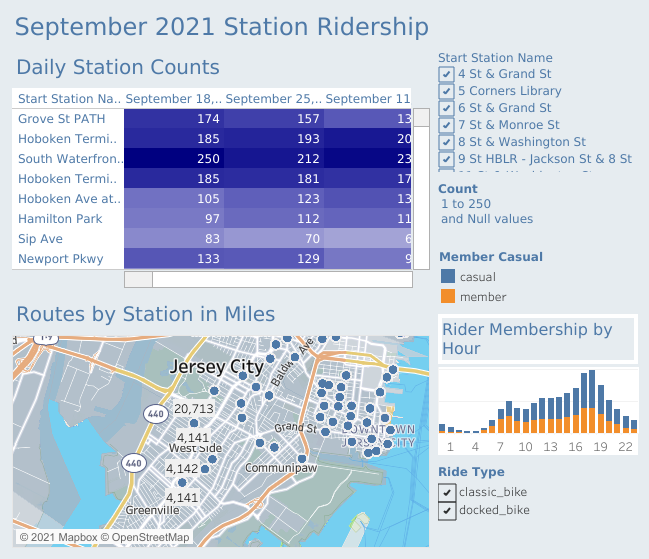

Layout of this report page (visuals, bound fields, positions):
{"tool":"tableau","page":{"name":"Ridership by Station","canvas":[1000,1000],"units":"permille","ordinal":1},"visuals":[{"type":"title","box":[12.3,12.4,975.4,57.5]},{"type":"worksheet","title":"Daily Station Data","mark":"Square","rows":["start_station_name"],"cols":["started_at"],"box":[12.3,69.9,655.4,447.2]},{"type":"filter","title":"Daily Station Data","param":"[federated.1lovvri06t33yk1fihulg1g0wsve].[none:start_station_name:nk]","box":[667.7,69.9,320,203.4]},{"type":"filter","title":"Daily Station Data","param":"[federated.1lovvri06t33yk1fihulg1g0wsve].[__tableau_internal_object_id__].[cnt:J","box":[667.7,273.3,320,104]},{"type":"legend","title":"Member Type Trips by the Hour","param":"[federated.1lovvri06t33yk1fihulg1g0wsve].[none:member_casual:nk]","box":[667.7,377.3,320,102.5]},{"type":"worksheet","title":"Member Type Trips by the Hour","mark":"Bar","rows":["JC-202109-citibike-tripdata.csv_9FB20963EDCC4FF99458A6803AE0"],"cols":["started_at"],"box":[667.7,479.8,320,369.6]},{"type":"worksheet","title":"Routes by Station in Miles","mark":"Line","rows":["start_lat"],"cols":["start_lng"],"box":[12.3,517,655.4,470.6]},{"type":"filter","title":"Member Type Trips by the Hour","param":"[federated.1lovvri06t33yk1fihulg1g0wsve].[none:rideable_type:nk]","box":[667.7,849.4,320,138.2]}]}

Visuals, with their boxes on the dashboard's canvas, which has no fixed pixel size, in thousandths of its width and height (x1, y1, x2, y2). These are canvas units, not pixel positions in the 649x559 screenshot, which may show the page scaled, cropped or inside an application window:
title: bbox=[12, 12, 988, 70]
"Daily Station Data" worksheet (Square marks): bbox=[12, 70, 668, 517]
"Daily Station Data" filter: bbox=[668, 70, 988, 273]
"Daily Station Data" filter: bbox=[668, 273, 988, 377]
"Member Type Trips by the Hour" legend: bbox=[668, 377, 988, 480]
"Member Type Trips by the Hour" worksheet (Bar marks): bbox=[668, 480, 988, 849]
"Routes by Station in Miles" worksheet (Line marks): bbox=[12, 517, 668, 988]
"Member Type Trips by the Hour" filter: bbox=[668, 849, 988, 988]
